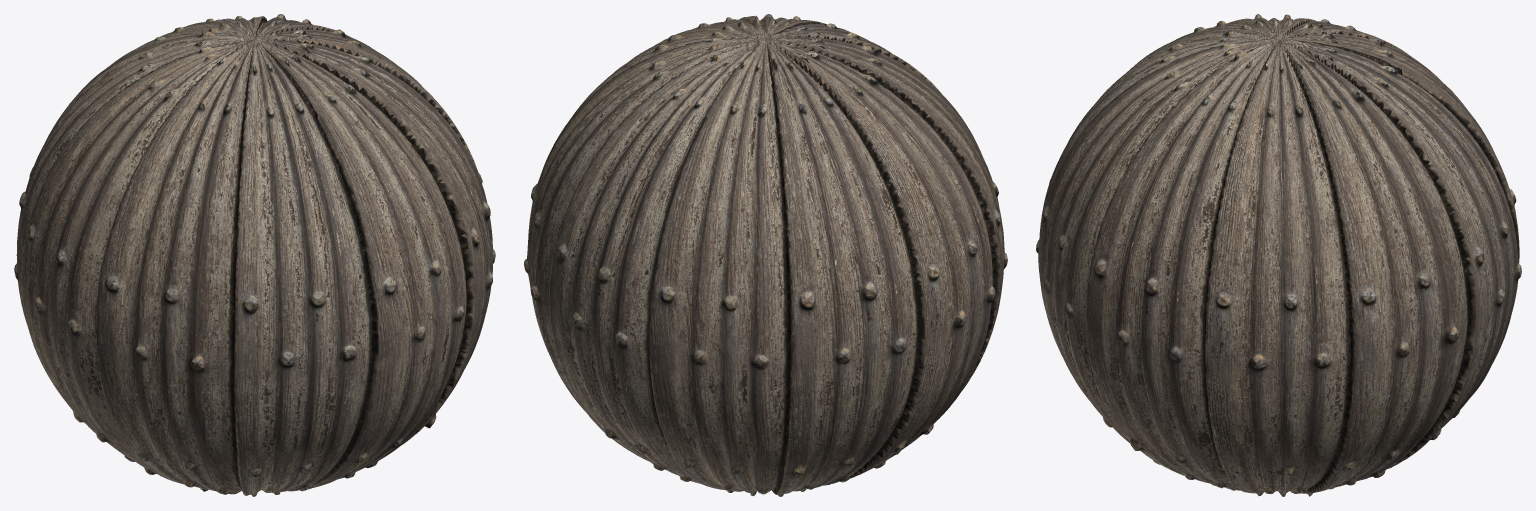
Rendered from medieval_wood_2k.gltf.
The picture shows the model from 3 angles, left to right: view 1: azimuth 30°, elevation 25°; view 2: azimuth 150°, elevation 25°; view 3: azimuth 270°, elevation 25°; orthographic projection.
Parts seen in each view (by area): view 1: sphere_gltf.001; view 2: sphere_gltf.001; view 3: sphere_gltf.001.
Part boxes in pixels (x1,y1,x2,y2): sphere_gltf.001: (14, 14, 495, 496); sphere_gltf.001: (524, 14, 1007, 496); sphere_gltf.001: (1036, 14, 1521, 496).
Size of the model in its own units: 2.06 by 2.05 by 2.08.
1 material, 1 textured.
